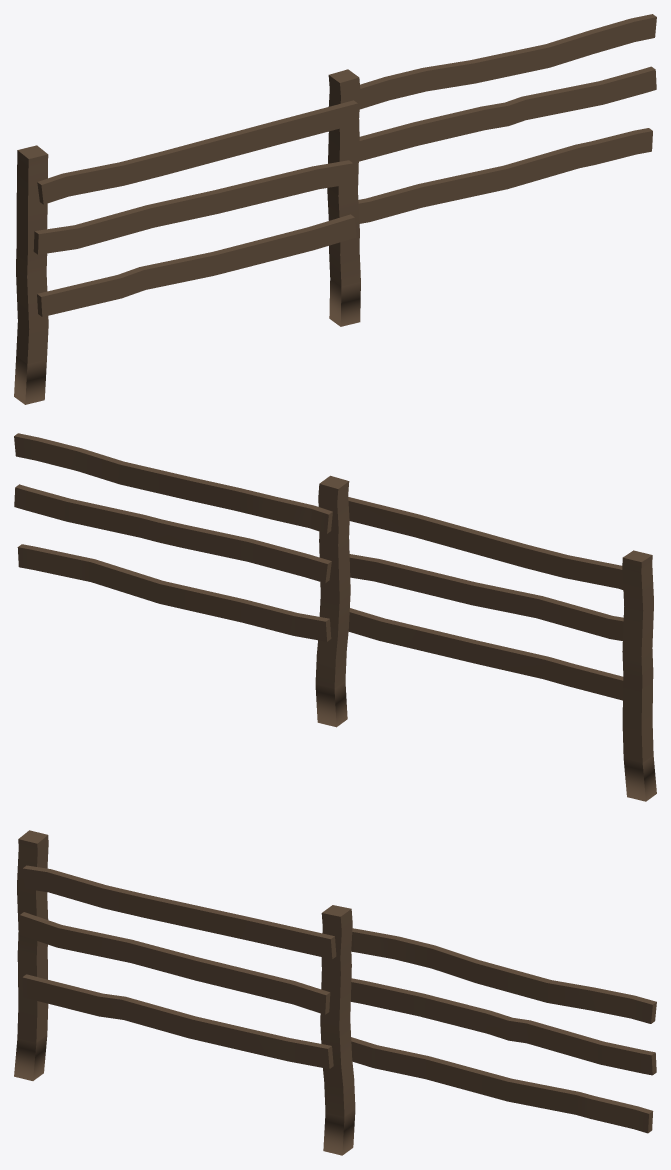
The model's file is FenceB.gltf.
The picture shows the model from 3 angles, top to bottom: view 1: azimuth 30°, elevation 25°; view 2: azimuth 150°, elevation 25°; view 3: azimuth 330°, elevation 25°; orthographic projection. The views are drawn at different scales.
Parts seen in each view (by area): view 1: FenceB; view 2: FenceB; view 3: FenceB.
Part boxes in pixels (x1,y1,x2,y2): FenceB: (14,14,656,404); FenceB: (14,433,656,801); FenceB: (14,830,656,1155).
Size of the model in its own units: 4.11 by 1.49 by 0.2493.
Materials: 1 (1 with a texture image).
